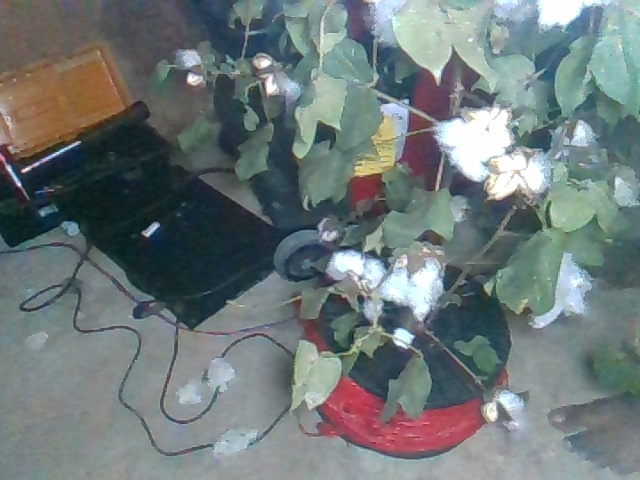cotton: (432, 104, 521, 184), (368, 251, 446, 324), (481, 147, 554, 202), (531, 1, 624, 34), (325, 246, 387, 292), (480, 386, 525, 428), (388, 324, 415, 352), (259, 72, 286, 98), (183, 68, 208, 86), (250, 52, 273, 71)
